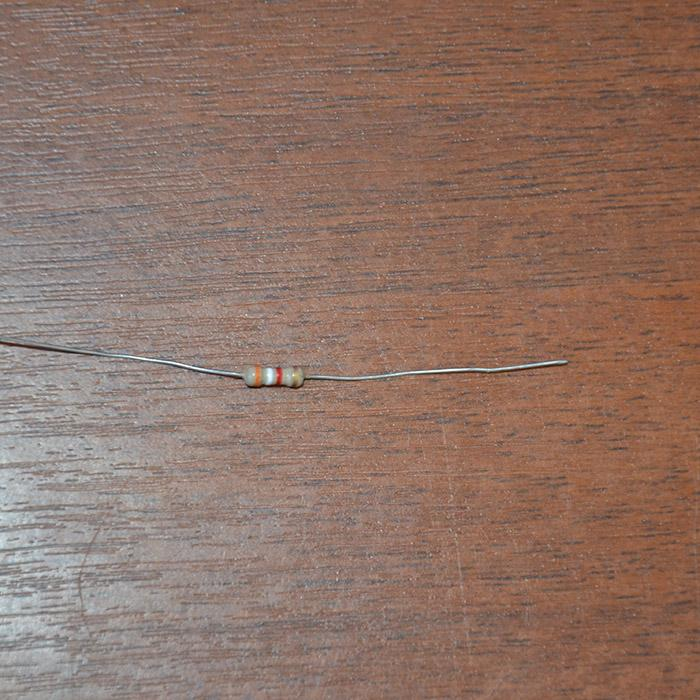resistor: (242, 365, 303, 388)
